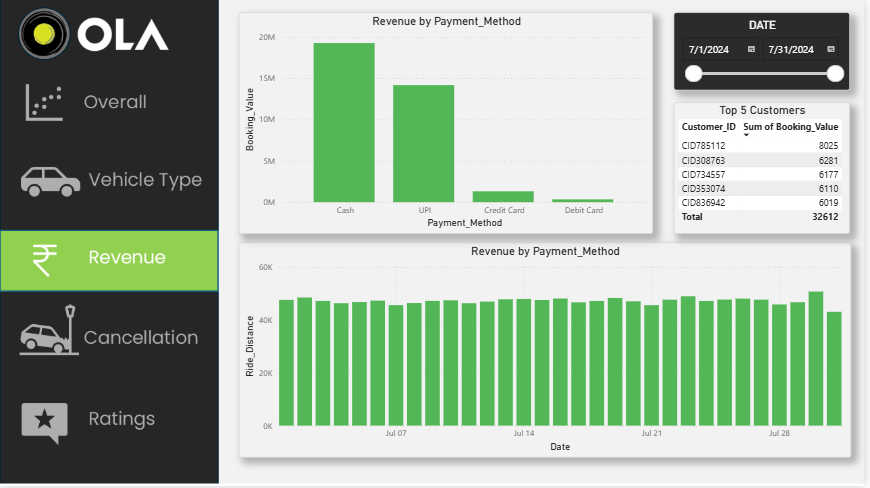

The page's visual inventory and layout, read from the dashboard file:
{"tool":"powerbi","page":{"name":"Revenue","canvas":[1280,720],"ordinal":2},"visuals":[{"type":"actionButton","box":[0,223.6,325,90.3],"z":0},{"type":"actionButton","box":[0,441.7,325,101.4],"z":1000},{"type":"actionButton","box":[0,576.4,325,101.4],"z":2000},{"type":"actionButton","box":[0,105.6,325,91.7],"z":3000},{"type":"columnChart","title":"Revenue by Payment_Method","fields":{"Y":["Sum(July.Booking_Value)"],"Category":["July.Payment_Method"]},"box":[352.8,18.1,613.9,327.8],"z":3001},{"type":"columnChart","title":"Revenue by Payment_Method","fields":{"Y":["Sum(July.Ride_Distance)"],"Category":["July.Date"]},"box":[352.8,359.7,906.9,318.1],"z":3002},{"type":"slicer","title":"DATE","fields":{"Values":["July.Date"]},"box":[998.6,18.1,261.1,115.3],"z":3003},{"type":"tableEx","title":"Top 5 Customers","fields":{"Values":["July.Customer_ID","Sum(July.Booking_Value)"]},"box":[998.6,151.4,261.1,194.4],"z":3004}]}

Visuals, with their boxes in screenshot pixels (x1, y1, x2, y2), scaled from the page's 1280x720 canvas onto the 870x488 screenshot:
actionButton: l=0, t=152, r=221, b=213
actionButton: l=0, t=299, r=221, b=368
actionButton: l=0, t=391, r=221, b=459
actionButton: l=0, t=72, r=221, b=134
"Revenue by Payment_Method" columnChart: l=240, t=12, r=657, b=234
"Revenue by Payment_Method" columnChart: l=240, t=244, r=856, b=459
"DATE" slicer: l=679, t=12, r=856, b=90
"Top 5 Customers" tableEx: l=679, t=103, r=856, b=234
